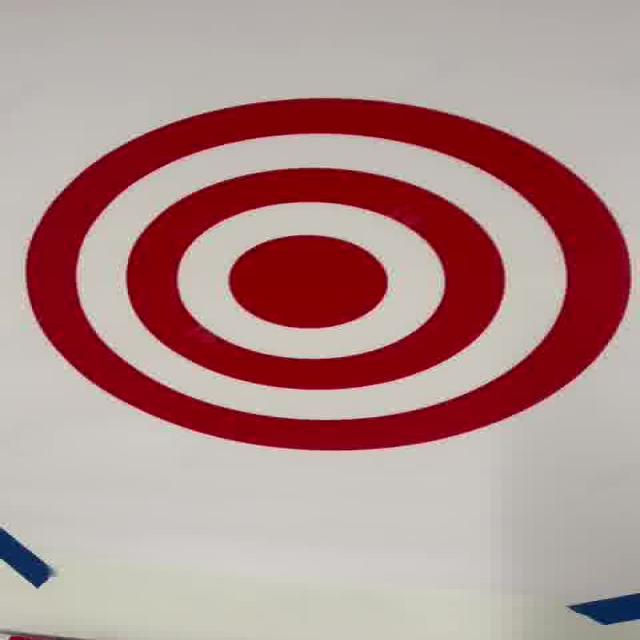target_red: (25, 97, 624, 444)
